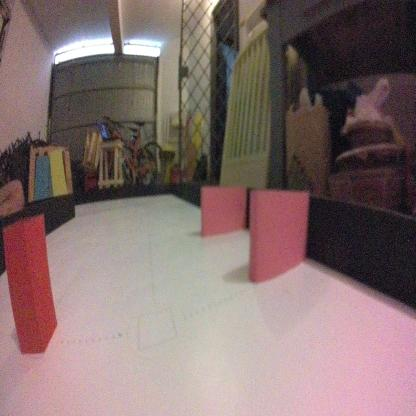magenta: (245, 186, 308, 280), (197, 177, 247, 234)
red: (4, 213, 60, 354)
